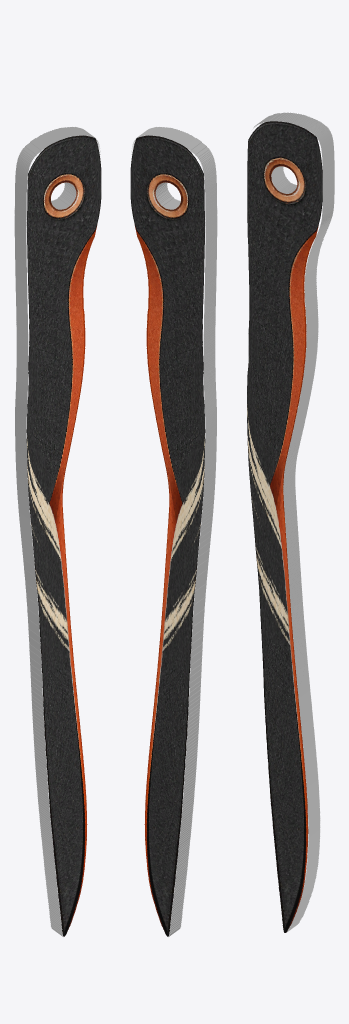
File: LowerLeg.glb
3 views of the same model, side by side, from view 1: azimuth 30°, elevation 25°; view 2: azimuth 150°, elevation 25°; view 3: azimuth 330°, elevation 25° (orthographic).
Parts seen in each view (by area): view 1: PaperVolume; view 2: PaperVolume; view 3: PaperVolume.
Boxes of the visible parts, x1=… form: PaperVolume: x1=14, y1=127, x2=101, y2=936; PaperVolume: x1=130, y1=127, x2=217, y2=936; PaperVolume: x1=247, y1=112, x2=334, y2=932.
Bounding box in the file's own units: 0.3 × 3.7 × 0.08.
3 materials, 2 textured.
